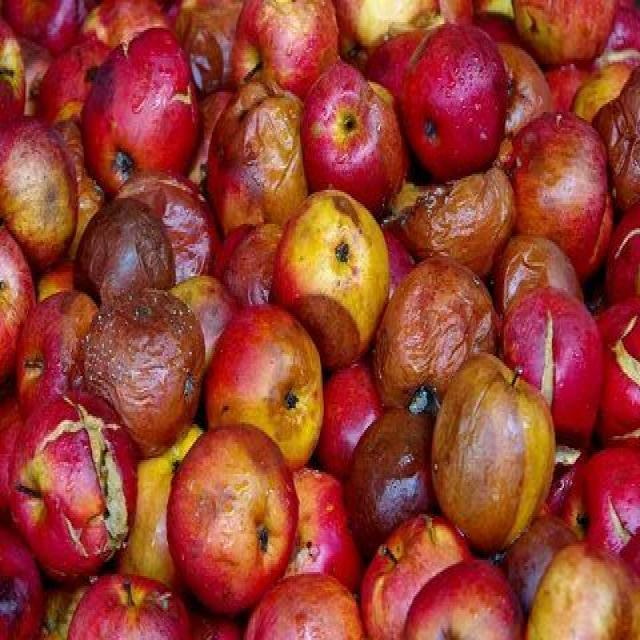Rotten Apple: (432, 354, 557, 556), (165, 424, 296, 612), (11, 393, 137, 581), (271, 189, 388, 365), (82, 290, 199, 456), (84, 35, 199, 181), (399, 175, 513, 257)
